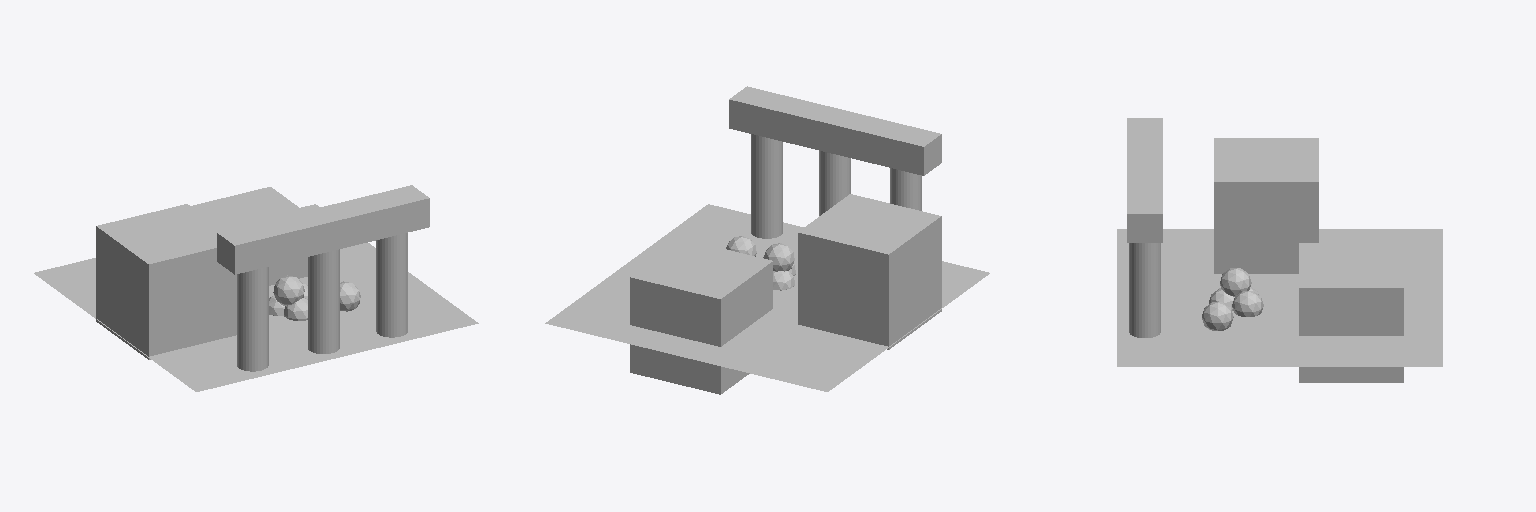
The model's file is scene_scalded.obj.
The picture shows the model from 3 angles: view 1: azimuth 30°, elevation 25°; view 2: azimuth 150°, elevation 25°; view 3: azimuth 270°, elevation 25°; orthographic projection.
Visible parts, largest first — view 1: Cube.001, Plane, Cube.002, Cube, Cylinder.002, Cylinder.003, Cylinder.001, Icosphere.005; view 2: Plane, Cube.001, Cube, Cube.002, Cylinder.003, Cylinder.001, Cylinder.002, Icosphere.005; view 3: Plane, Cube.001, Cube, Cube.002, Cylinder.003, Icosphere.004, Icosphere.005, Icosphere.001.
Boxes of the visible parts, x1,y1,x2,y2 form: Cube.001: [96, 204, 236, 359]; Plane: [34, 204, 478, 391]; Cube.002: [217, 185, 429, 274]; Cube: [191, 187, 307, 285]; Cylinder.002: [237, 267, 268, 371]; Cylinder.003: [376, 233, 407, 337]; Cylinder.001: [308, 249, 339, 353]; Icosphere.005: [273, 275, 304, 305]; Plane: [545, 204, 989, 391]; Cube.001: [798, 194, 941, 349]; Cube: [630, 239, 772, 394]; Cube.002: [729, 86, 941, 175]; Cylinder.003: [751, 134, 782, 238]; Cylinder.001: [819, 151, 850, 215]; Cylinder.002: [890, 168, 921, 210]; Icosphere.005: [763, 243, 794, 271]; Plane: [1117, 229, 1442, 366]; Cube.001: [1214, 138, 1318, 273]; Cube: [1299, 243, 1403, 382]; Cube.002: [1127, 118, 1162, 242]; Cylinder.003: [1129, 243, 1160, 337]; Icosphere.004: [1202, 302, 1233, 330]; Icosphere.005: [1220, 268, 1251, 296]; Icosphere.001: [1232, 291, 1263, 316].
Bounding box in the file's own units: 32.54 × 19.78 × 32.54.